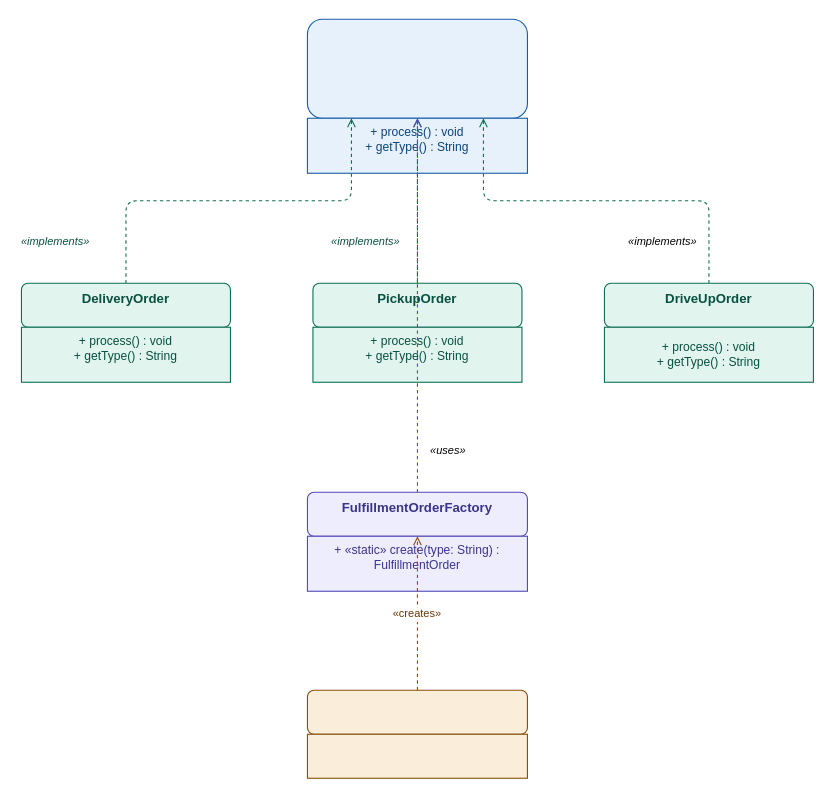
The diagram is 833 pixels wide and 798 high, and some of its shapes have lost their labels. Each missing label, with the box of its shape:
+ main(args: String[]) : void: (306, 733, 527, 778)
SimpleFactoryApp: (306, 689, 527, 734)
«interface» FulfillmentOrder: (306, 18, 527, 118)
